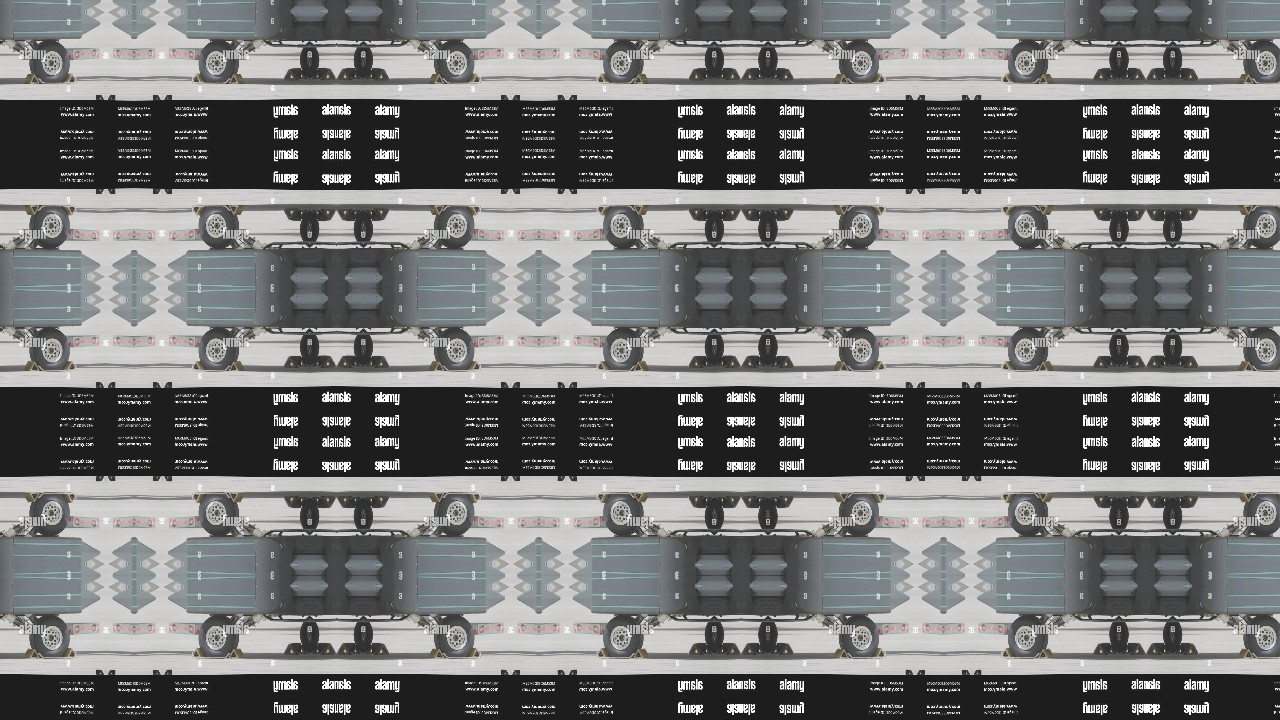chock: (318, 67, 336, 80), (336, 67, 354, 80), (723, 67, 741, 80), (1147, 67, 1165, 80), (318, 208, 336, 221), (336, 208, 354, 221), (723, 208, 741, 221), (1147, 208, 1165, 221), (318, 355, 336, 368), (336, 355, 354, 368), (723, 355, 741, 368), (1147, 355, 1165, 368), (318, 496, 336, 509), (336, 496, 354, 509), (723, 496, 741, 509), (1147, 496, 1165, 509), (318, 643, 336, 656), (336, 643, 354, 656), (723, 643, 741, 656), (1147, 643, 1165, 656), (742, 67, 759, 80), (1129, 67, 1146, 80), (742, 208, 759, 221), (1129, 208, 1146, 221), (742, 355, 759, 368), (1129, 355, 1146, 368), (742, 496, 759, 509), (1129, 496, 1146, 509), (742, 643, 759, 656), (1129, 643, 1146, 656), (283, 68, 301, 80), (371, 68, 389, 80), (688, 68, 706, 80), (1182, 68, 1200, 80), (283, 208, 301, 220), (371, 208, 389, 220), (688, 208, 706, 220), (1182, 208, 1200, 220), (283, 356, 301, 368), (371, 356, 389, 368), (688, 356, 706, 368), (1182, 356, 1200, 368), (283, 496, 301, 508), (371, 496, 389, 508), (688, 496, 706, 508), (1182, 496, 1200, 508), (283, 644, 301, 656), (371, 644, 389, 656), (688, 644, 706, 656), (1182, 644, 1200, 656), (777, 68, 794, 80), (1094, 68, 1111, 80), (777, 208, 794, 220), (1094, 208, 1111, 220), (777, 356, 794, 368), (1094, 356, 1111, 368), (777, 496, 794, 508), (1094, 496, 1111, 508), (777, 644, 794, 656), (1094, 644, 1111, 656), (871, 73, 887, 83), (1001, 73, 1017, 83), (871, 205, 887, 215), (1001, 205, 1017, 215), (871, 361, 887, 371), (1001, 361, 1017, 371), (871, 493, 887, 503), (1001, 493, 1017, 503), (871, 649, 887, 659), (1001, 649, 1017, 659), (23, 73, 38, 83), (61, 73, 76, 83), (228, 73, 243, 83), (191, 73, 206, 83), (429, 73, 444, 83), (466, 73, 481, 83), (634, 73, 649, 83), (596, 73, 611, 83), (834, 73, 849, 83), (1039, 73, 1054, 83), (1239, 73, 1254, 83), (23, 205, 38, 215), (61, 205, 76, 215), (228, 205, 243, 215), (191, 205, 206, 215), (429, 205, 444, 215), (466, 205, 481, 215), (634, 205, 649, 215), (596, 205, 611, 215), (834, 205, 849, 215), (1039, 205, 1054, 215), (1239, 205, 1254, 215), (23, 361, 38, 371), (61, 361, 76, 371), (228, 361, 243, 371), (191, 361, 206, 371), (429, 361, 444, 371), (466, 361, 481, 371), (634, 361, 649, 371), (596, 361, 611, 371), (834, 361, 849, 371), (1039, 361, 1054, 371), (1239, 361, 1254, 371), (23, 493, 38, 503), (61, 493, 76, 503), (228, 493, 243, 503), (191, 493, 206, 503), (429, 493, 444, 503), (466, 493, 481, 503), (634, 493, 649, 503), (596, 493, 611, 503), (834, 493, 849, 503), (1039, 493, 1054, 503), (1239, 493, 1254, 503), (23, 649, 38, 659), (61, 649, 76, 659), (228, 649, 243, 659), (191, 649, 206, 659), (429, 649, 444, 659), (466, 649, 481, 659), (634, 649, 649, 659), (596, 649, 611, 659), (834, 649, 849, 659), (1039, 649, 1054, 659), (1239, 649, 1254, 659), (294, 69, 308, 79), (364, 69, 378, 79), (700, 69, 714, 79), (769, 69, 783, 79), (1105, 69, 1119, 79), (1174, 69, 1188, 79), (294, 209, 308, 219), (364, 209, 378, 219), (700, 209, 714, 219), (769, 209, 783, 219), (1105, 209, 1119, 219), (1174, 209, 1188, 219), (294, 357, 308, 367), (364, 357, 378, 367), (700, 357, 714, 367), (769, 357, 783, 367), (1105, 357, 1119, 367), (1174, 357, 1188, 367), (294, 497, 308, 507), (364, 497, 378, 507), (700, 497, 714, 507), (769, 497, 783, 507), (1105, 497, 1119, 507), (1174, 497, 1188, 507), (294, 645, 308, 655), (364, 645, 378, 655), (700, 645, 714, 655), (769, 645, 783, 655), (1105, 645, 1119, 655), (1174, 645, 1188, 655), (310, 69, 324, 78), (348, 69, 362, 78), (753, 69, 767, 78), (1121, 69, 1135, 78), (310, 210, 324, 219), (348, 210, 362, 219), (753, 210, 767, 219), (1121, 210, 1135, 219), (310, 357, 324, 366), (348, 357, 362, 366), (753, 357, 767, 366), (1121, 357, 1135, 366), (310, 498, 324, 507), (348, 498, 362, 507), (753, 498, 767, 507), (1121, 498, 1135, 507), (310, 645, 324, 654), (348, 645, 362, 654), (753, 645, 767, 654), (1121, 645, 1135, 654), (716, 69, 729, 78), (1159, 69, 1172, 78), (716, 210, 729, 219), (1159, 210, 1172, 219), (716, 357, 729, 366), (1159, 357, 1172, 366), (716, 498, 729, 507), (1159, 498, 1172, 507), (716, 645, 729, 654), (1159, 645, 1172, 654), (107, 94, 115, 100), (95, 94, 103, 100), (152, 94, 160, 100), (512, 94, 520, 100), (557, 94, 565, 100), (569, 94, 577, 100), (906, 94, 914, 100), (974, 94, 982, 100), (107, 188, 115, 194), (95, 188, 103, 194), (152, 188, 160, 194), (512, 188, 520, 194), (557, 188, 565, 194), (569, 188, 577, 194), (906, 188, 914, 194), (974, 188, 982, 194), (107, 382, 115, 388), (95, 382, 103, 388), (152, 382, 160, 388), (512, 382, 520, 388), (557, 382, 565, 388), (569, 382, 577, 388), (906, 382, 914, 388), (974, 382, 982, 388), (107, 476, 115, 482), (95, 476, 103, 482), (152, 476, 160, 482), (512, 476, 520, 482), (557, 476, 565, 482), (569, 476, 577, 482), (906, 476, 914, 482), (974, 476, 982, 482), (107, 670, 115, 676), (95, 670, 103, 676), (152, 670, 160, 676), (512, 670, 520, 676), (557, 670, 565, 676), (569, 670, 577, 676), (906, 670, 914, 676), (974, 670, 982, 676), (164, 94, 171, 100), (501, 94, 508, 100), (918, 94, 925, 100), (963, 94, 970, 100), (164, 188, 171, 194), (501, 188, 508, 194), (918, 188, 925, 194), (963, 188, 970, 194), (164, 382, 171, 388), (501, 382, 508, 388), (918, 382, 925, 388), (963, 382, 970, 388), (164, 476, 171, 482), (501, 476, 508, 482), (918, 476, 925, 482), (963, 476, 970, 482), (164, 670, 171, 676), (501, 670, 508, 676), (918, 670, 925, 676), (963, 670, 970, 676), (1277, 73, 1280, 83), (1277, 205, 1280, 215), (1277, 361, 1280, 371), (1277, 493, 1280, 503), (1277, 649, 1280, 659)
wheel: (28, 39, 69, 81), (603, 39, 644, 81), (28, 207, 69, 249), (603, 207, 644, 249), (28, 327, 69, 369), (603, 327, 644, 369), (28, 495, 69, 537), (603, 495, 644, 537), (28, 615, 69, 657), (603, 615, 644, 657), (198, 39, 238, 81), (434, 39, 474, 81), (839, 39, 879, 81), (1009, 39, 1049, 81), (198, 207, 238, 249), (434, 207, 474, 249), (839, 207, 879, 249), (1009, 207, 1049, 249), (198, 327, 238, 369), (434, 327, 474, 369), (839, 327, 879, 369), (1009, 327, 1049, 369), (198, 495, 238, 537), (434, 495, 474, 537), (839, 495, 879, 537), (1009, 495, 1049, 537), (198, 615, 238, 657), (434, 615, 474, 657), (839, 615, 879, 657), (1009, 615, 1049, 657), (1244, 39, 1280, 81), (1244, 207, 1280, 249), (1244, 327, 1280, 369), (1244, 495, 1280, 537), (1244, 615, 1280, 657), (768, 45, 779, 77), (1109, 45, 1120, 77), (768, 211, 779, 243), (1109, 211, 1120, 243), (768, 333, 779, 365), (1109, 333, 1120, 365), (768, 499, 779, 531), (1109, 499, 1120, 531), (768, 621, 779, 653), (1109, 621, 1120, 653), (299, 45, 309, 77), (309, 45, 319, 77), (363, 45, 373, 77), (353, 45, 363, 77), (704, 45, 714, 77), (715, 45, 725, 77), (758, 45, 768, 77), (1120, 45, 1130, 77), (1174, 45, 1184, 77), (1163, 45, 1173, 77), (299, 211, 309, 243), (309, 211, 319, 243), (363, 211, 373, 243), (353, 211, 363, 243), (704, 211, 714, 243), (715, 211, 725, 243), (758, 211, 768, 243), (1120, 211, 1130, 243), (1174, 211, 1184, 243), (1163, 211, 1173, 243), (299, 333, 309, 365), (309, 333, 319, 365), (363, 333, 373, 365), (353, 333, 363, 365), (704, 333, 714, 365), (715, 333, 725, 365), (758, 333, 768, 365), (1120, 333, 1130, 365), (1174, 333, 1184, 365), (1163, 333, 1173, 365), (299, 499, 309, 531), (309, 499, 319, 531), (363, 499, 373, 531), (353, 499, 363, 531), (704, 499, 714, 531), (715, 499, 725, 531), (758, 499, 768, 531), (1120, 499, 1130, 531), (1174, 499, 1184, 531), (1163, 499, 1173, 531), (299, 621, 309, 653), (309, 621, 319, 653), (363, 621, 373, 653), (353, 621, 363, 653), (704, 621, 714, 653), (715, 621, 725, 653), (758, 621, 768, 653), (1120, 621, 1130, 653), (1174, 621, 1184, 653), (1163, 621, 1173, 653)
